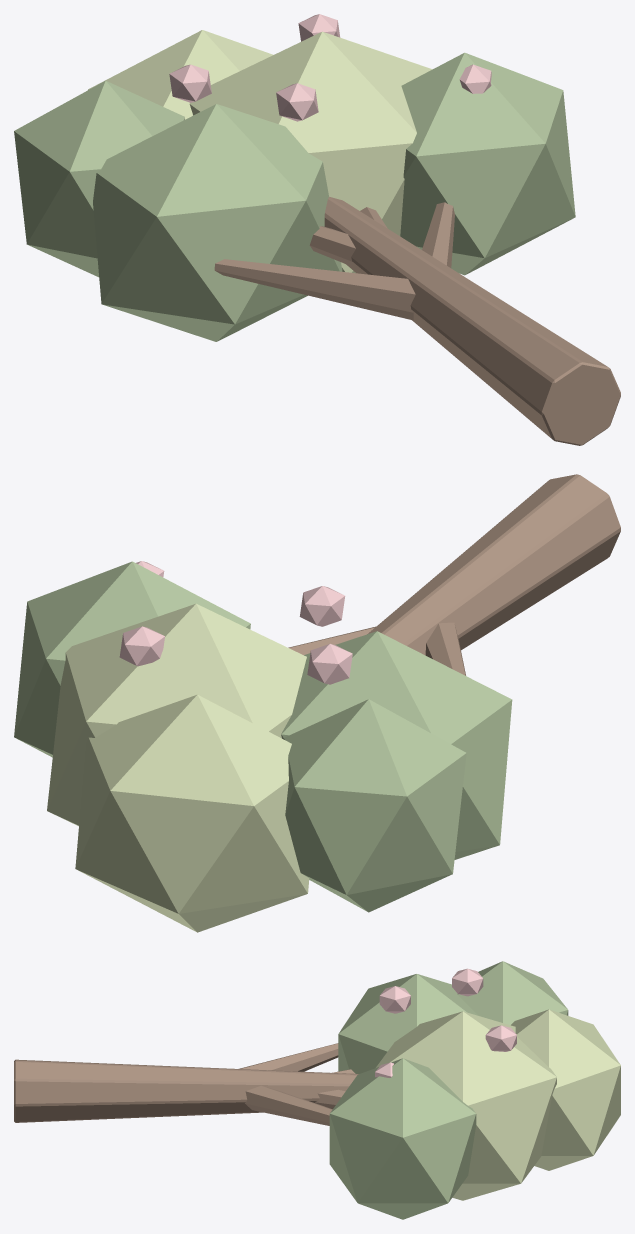
The model's file is AppleTree_Summer.fbx.
The picture shows the model from 3 angles, top to bottom: view 1: azimuth 30°, elevation 25°; view 2: azimuth 150°, elevation 25°; view 3: azimuth 270°, elevation 25°; orthographic projection. The views are drawn at different scales.
Visible parts, largest first — view 1: Tree_Canopy, Tree_Canopy.002, Tree_Trunk, Tree_Canopy.001, Tree_Canopy.004, Tree_Branch_00, Tree_Canopy.003, Tree_Branch_01, Apple, Apple.003, Tree_Branch_02, Apple.001 (+1 smaller); view 2: Tree_Canopy.003, Tree_Canopy.004, Tree_Canopy.001, Tree_Trunk, Tree_Canopy, Tree_Canopy.002, Apple, Apple.003, Apple.001, Tree_Branch_00, Tree_Branch_01; view 3: Tree_Canopy.002, Tree_Canopy.001, Tree_Trunk, Tree_Canopy.003, Tree_Canopy, Tree_Canopy.004, Tree_Branch_01, Tree_Branch_00, Apple, Apple.003, Apple.001, Tree_Branch_03.
Boxes of the visible parts, x1,y1,x2,y2 form: Tree_Canopy: [93, 104, 342, 341]; Tree_Canopy.002: [400, 52, 575, 275]; Tree_Trunk: [324, 196, 620, 445]; Tree_Canopy.001: [189, 31, 432, 273]; Tree_Canopy.004: [14, 80, 184, 277]; Tree_Branch_00: [214, 259, 415, 320]; Tree_Canopy.003: [88, 30, 273, 119]; Tree_Branch_01: [422, 202, 454, 267]; Apple: [169, 64, 211, 102]; Apple.003: [276, 83, 318, 121]; Tree_Branch_02: [309, 226, 355, 265]; Apple.001: [298, 14, 340, 41]; Tree_Canopy.003: [75, 694, 309, 932]; Tree_Canopy.004: [284, 699, 466, 912]; Tree_Canopy.001: [47, 603, 306, 826]; Tree_Trunk: [367, 474, 620, 655]; Tree_Canopy: [281, 631, 512, 859]; Tree_Canopy.002: [14, 561, 250, 757]; Apple: [307, 644, 352, 684]; Apple.003: [299, 586, 345, 626]; Apple.001: [119, 626, 164, 666]; Tree_Branch_00: [425, 622, 465, 675]; Tree_Branch_01: [288, 626, 375, 655]; Tree_Canopy.002: [329, 1058, 476, 1219]; Tree_Canopy.001: [376, 1011, 556, 1200]; Tree_Trunk: [14, 1059, 358, 1122]; Tree_Canopy.003: [511, 1009, 620, 1170]; Tree_Canopy: [338, 974, 478, 1073]; Tree_Canopy.004: [457, 961, 568, 1025]; Tree_Branch_01: [245, 1085, 332, 1125]; Tree_Branch_00: [239, 1043, 338, 1071]; Apple: [452, 968, 483, 996]; Apple.003: [379, 986, 410, 1013]; Apple.001: [485, 1025, 516, 1051]; Tree_Branch_03: [315, 1089, 345, 1108].
Size of the model in its own units: 255 by 136 by 395.
